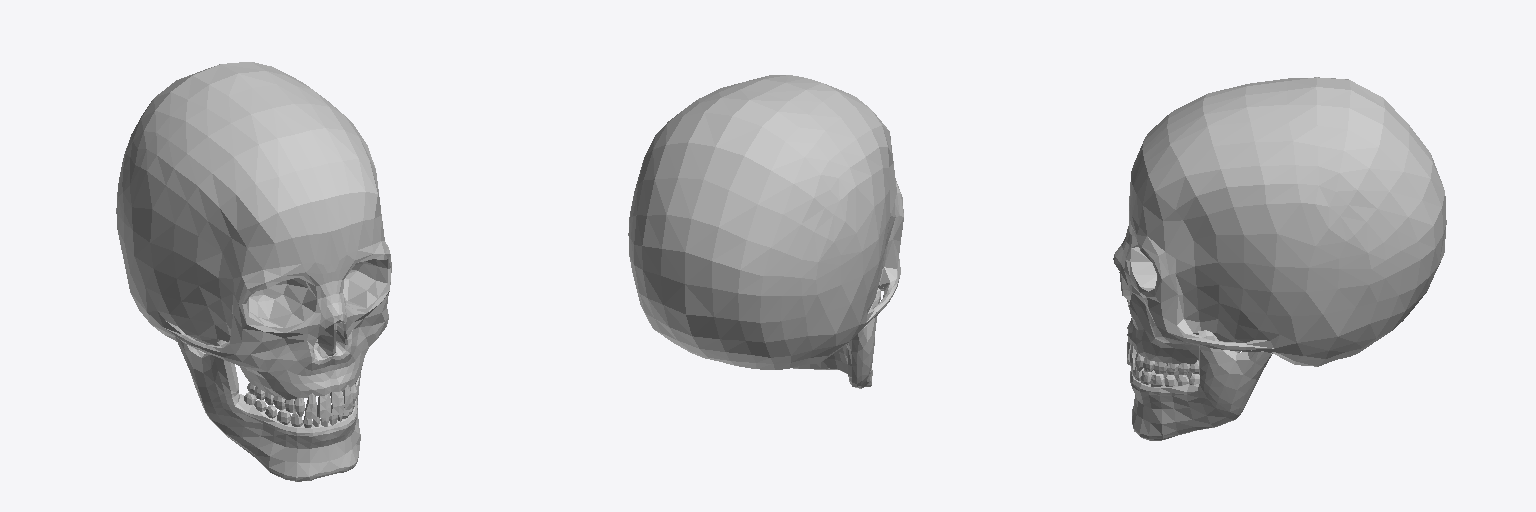
The model's file is skull-low.obj.
3 renders of one model, left to right at view 1: azimuth 30°, elevation 25°; view 2: azimuth 150°, elevation 25°; view 3: azimuth 270°, elevation 25°, orthographic.
Bounding box in the file's own units: 1.92 × 2.85 × 2.55.